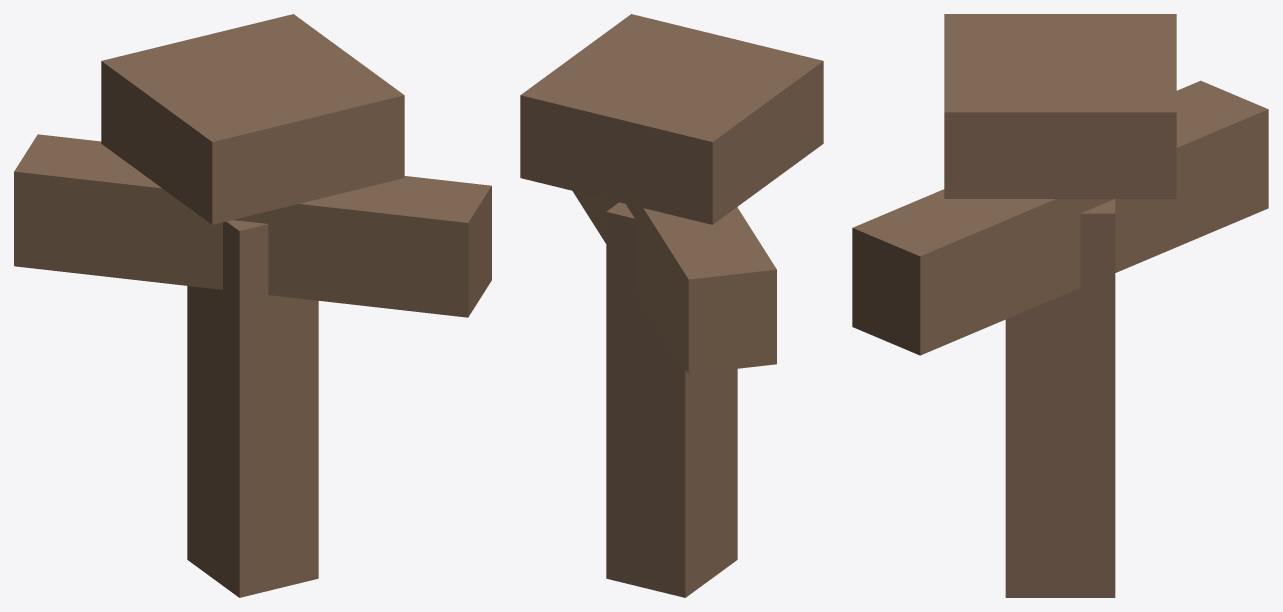
The model's file is eave_bracket_detail.glb.
3 renders of one model, left to right at view 1: azimuth 30°, elevation 25°; view 2: azimuth 150°, elevation 25°; view 3: azimuth 270°, elevation 25°, orthographic. The views are drawn at different scales.
Visible parts, largest first — view 1: eave_1, eave_2, eave_0; view 2: eave_2, eave_0, eave_1; view 3: eave_1, eave_2, eave_0.
Part boxes in pixels (x1,y1,x2,y2): eave_1: (14,134,491,317); eave_2: (101,14,404,224); eave_0: (187,220,318,597); eave_2: (520,14,823,224); eave_0: (606,202,737,597); eave_1: (572,191,776,374); eave_1: (852,80,1268,355); eave_2: (944,14,1176,198); eave_0: (1005,199,1115,597).
Bounding box in the file's own units: 0.6081 × 0.83 × 0.6081.
